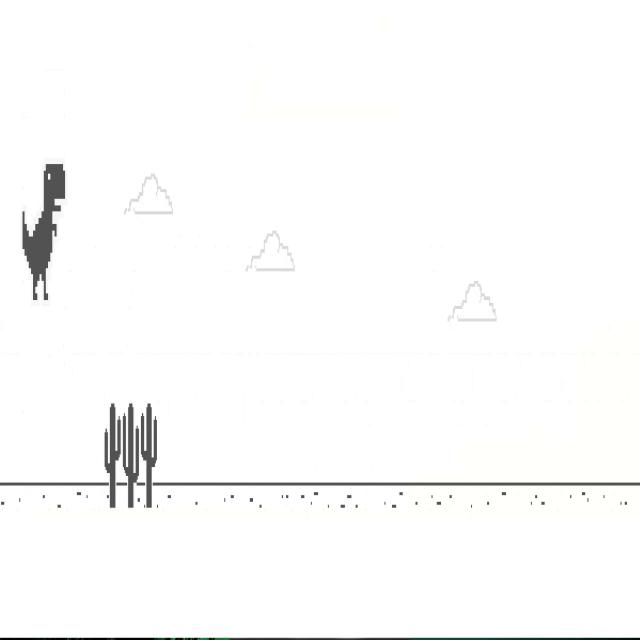cacto: (122, 403, 140, 508), (105, 403, 121, 508), (141, 403, 157, 508)
dino: (23, 164, 66, 302)
